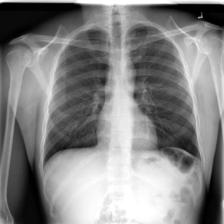normal: (41, 23, 206, 177)
